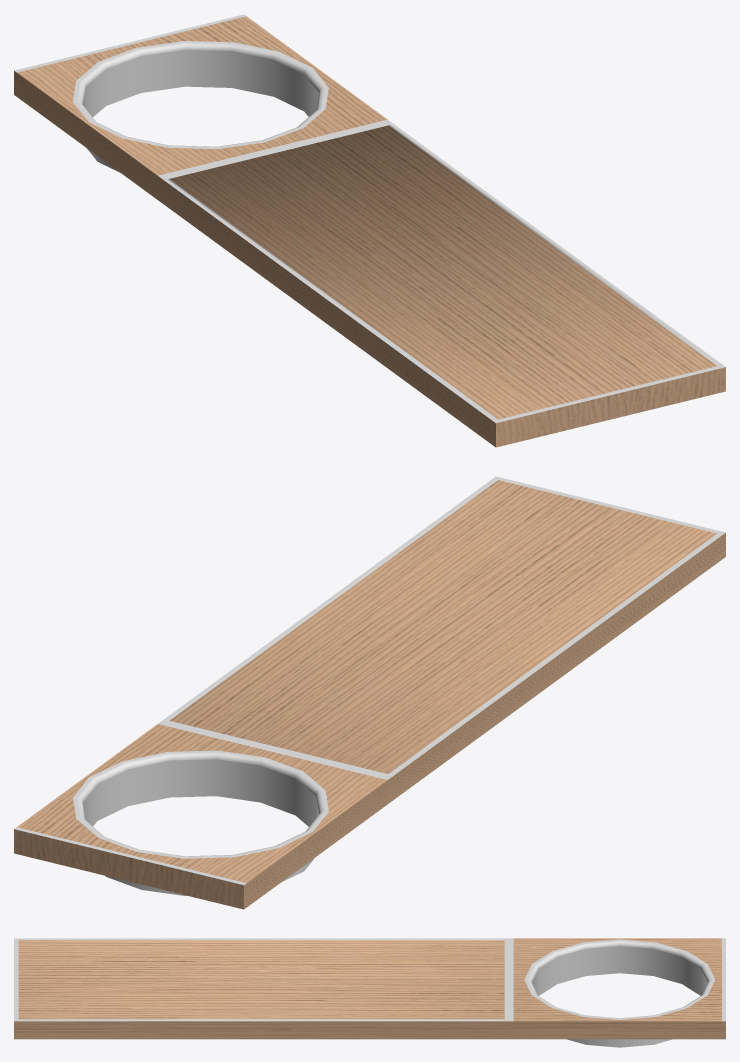
Rendered from StackHoot update.fbx.
The picture shows the model from 3 angles, top to bottom: view 1: azimuth 30°, elevation 25°; view 2: azimuth 150°, elevation 25°; view 3: azimuth 270°, elevation 25°; orthographic projection. The views are drawn at different scales.
Parts seen in each view (by area): view 1: Cube.015; view 2: Cube.015; view 3: Cube.015.
Boxes of the visible parts, x1,y1,x2,y2 form: Cube.015: (14,14,725,447); Cube.015: (14,476,725,909); Cube.015: (14,938,725,1047).
Bounding box in the file's own units: 127 × 22 × 462.
2 materials, 1 textured.
